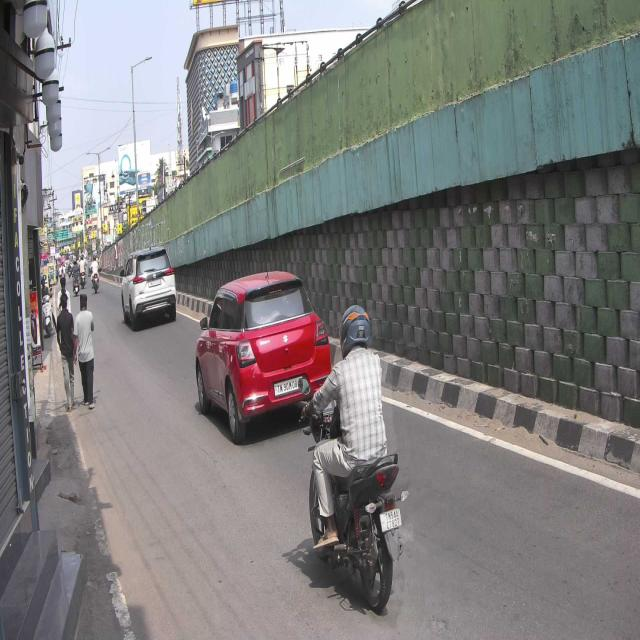single_rider: (297, 300, 407, 611)
